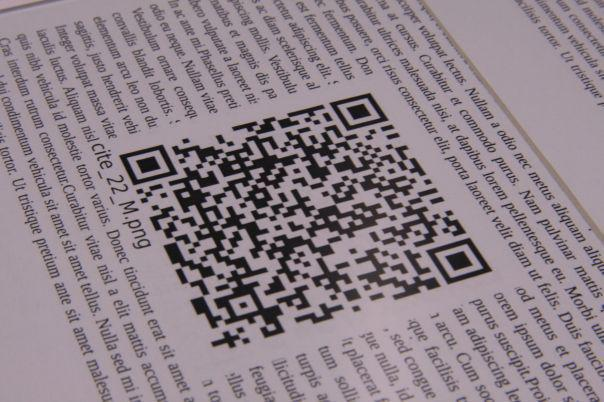qr_code: (119, 93, 492, 354)
